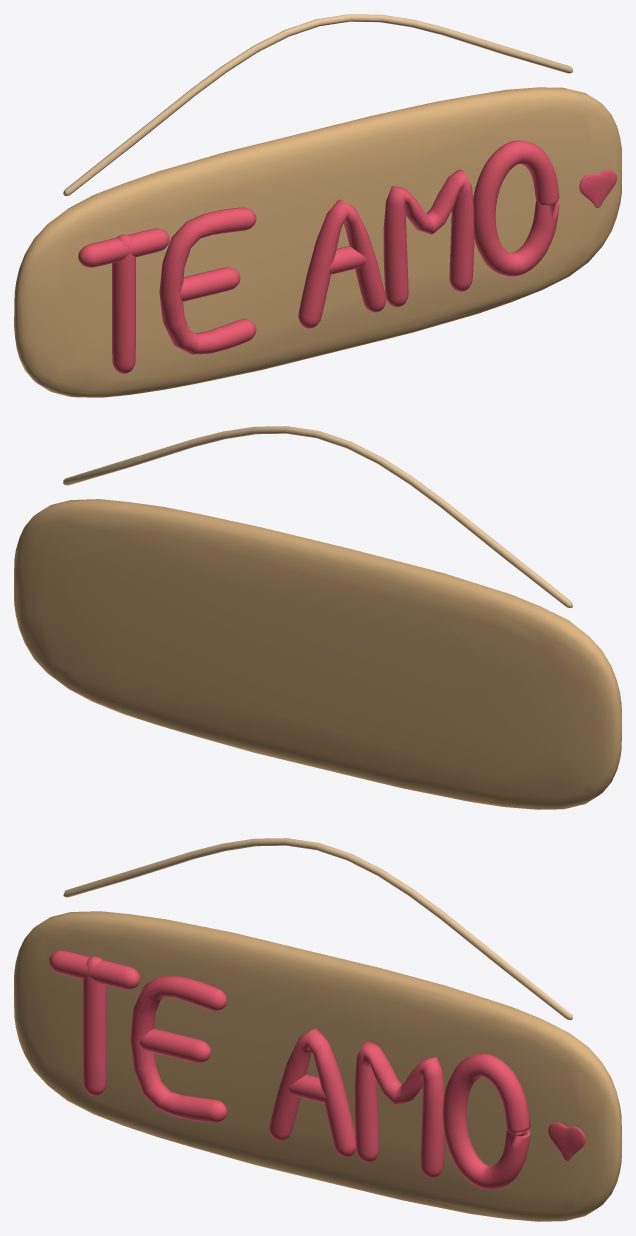
File: deco_letrero_amor.glb
The picture shows the model from 3 angles, top to bottom: view 1: azimuth 30°, elevation 25°; view 2: azimuth 150°, elevation 25°; view 3: azimuth 330°, elevation 25°; orthographic projection.
Parts seen in each view (by area): view 1: tabla letrero.001, letra 4 0.001, letra 5 0.001, letra 1 0.001, letra 3 0.001, cordel letrero.001, letra 0 1.001, letra 0 0.001, letra 1 1.001, corazón letrero.001, letra 3 1.001; view 2: tabla letrero.001, cordel letrero.001; view 3: tabla letrero.001, letra 5 0.001, letra 4 0.001, letra 1 0.001, letra 3 0.001, cordel letrero.001, letra 0 1.001, letra 0 0.001, letra 1 1.001, corazón letrero.001, letra 3 1.001.
Boxes of the visible parts, x1,y1,x2,y2 form: tabla letrero.001: (14,87,621,397); letra 4 0.001: (383,169,474,307); letra 5 0.001: (473,140,559,276); letra 1 0.001: (159,207,256,354); letra 3 0.001: (298,199,386,328); cordel letrero.001: (63,14,572,195); letra 0 1.001: (112,234,135,373); letra 0 0.001: (78,228,169,267); letra 1 1.001: (179,267,240,301); corazón letrero.001: (579,169,616,207); letra 3 1.001: (328,246,367,274); tabla letrero.001: (14,499,621,809); cordel letrero.001: (63,426,572,607); tabla letrero.001: (14,911,621,1221); letra 5 0.001: (442,1053,530,1189); letra 4 0.001: (354,1040,444,1178); letra 1 0.001: (130,975,227,1122); letra 3 0.001: (269,1028,355,1157); cordel letrero.001: (63,838,572,1019); letra 0 1.001: (82,956,106,1095); letra 0 0.001: (49,950,140,989); letra 1 1.001: (139,1028,211,1062); corazón letrero.001: (548,1122,585,1160); letra 3 1.001: (288,1074,326,1103).
Bounding box in the file's own units: 0.6793 × 0.3592 × 0.0596.
